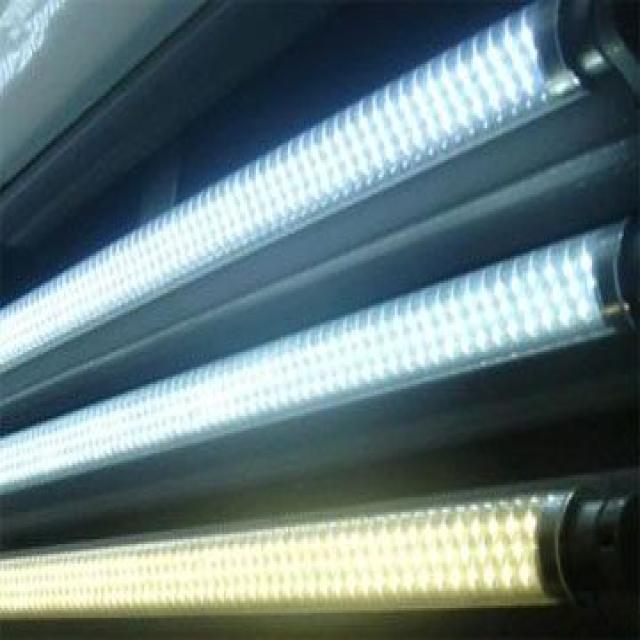tubelight_on: (0, 0, 601, 381), (0, 209, 640, 497), (3, 480, 636, 622)
